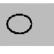no answer: (5, 11, 33, 36)
